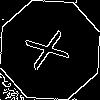X: (25, 25, 79, 71)
